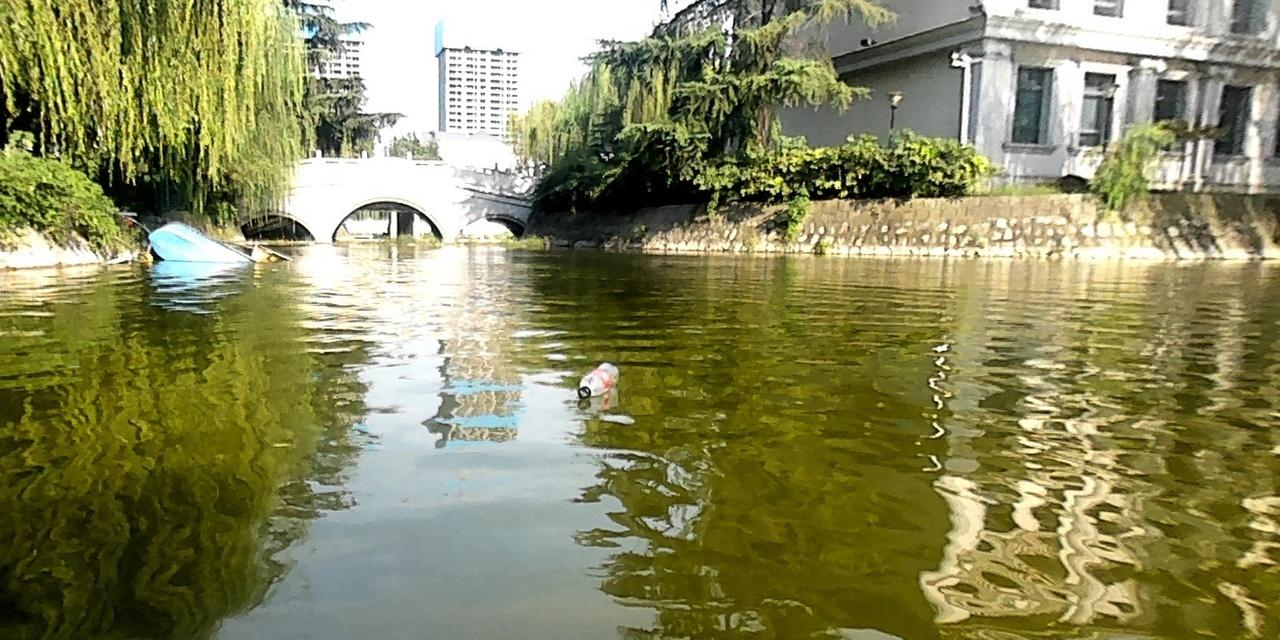bottle: (575, 361, 621, 398)
